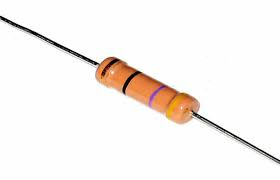resistor: (81, 51, 223, 138)
